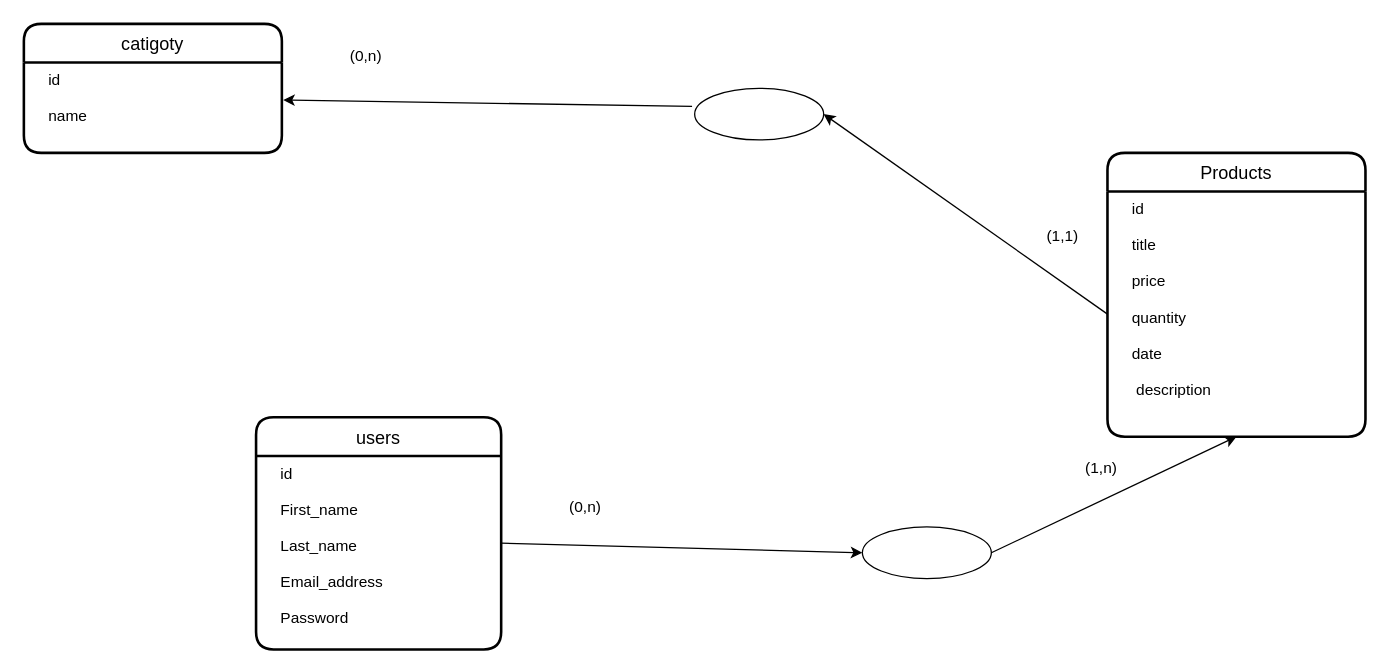
Image size: 1388x672. Some labels were removed from this diagram. The shapes that lost their labels are listed below. From the top down, each one's box as (x1, y1, x2, y2) in pixels, then its label:
(693, 87, 824, 140): posséder
(861, 526, 991, 579): Créer
